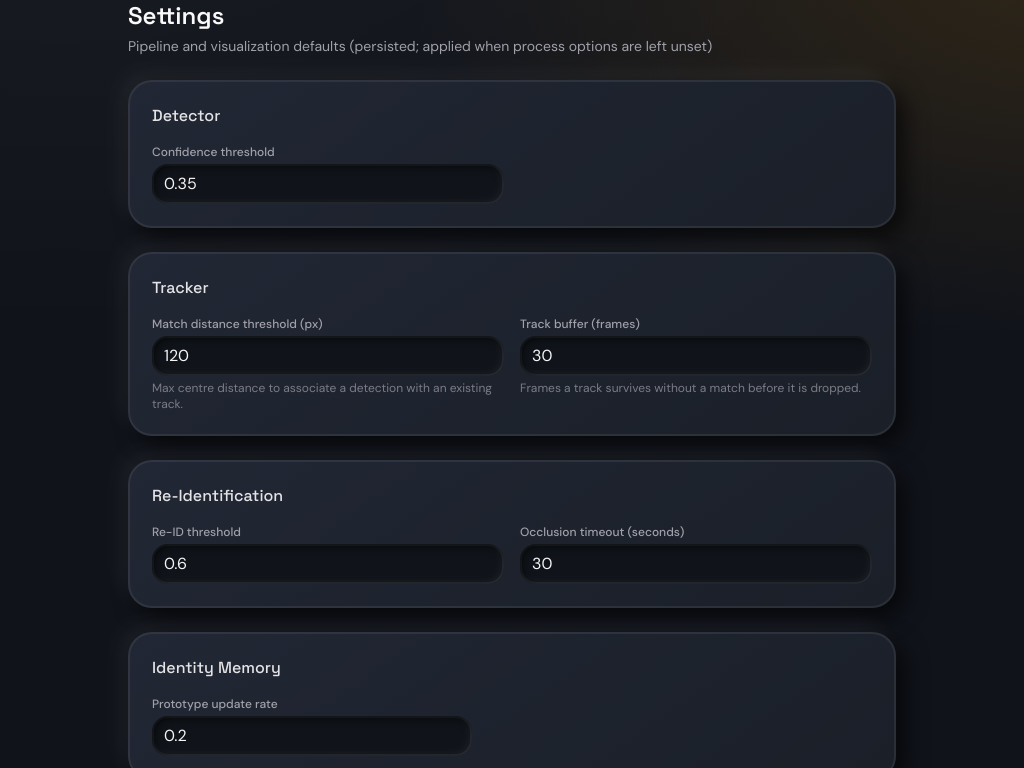
Test: SettingsPage › submits the edited values to the API
The width and height of the screenshot is (1024, 768).
Replace the text in the number field labelled "Re-ID threshold" with "0.5" at (328, 564), box [152,544,504,584]
(page scrolled)
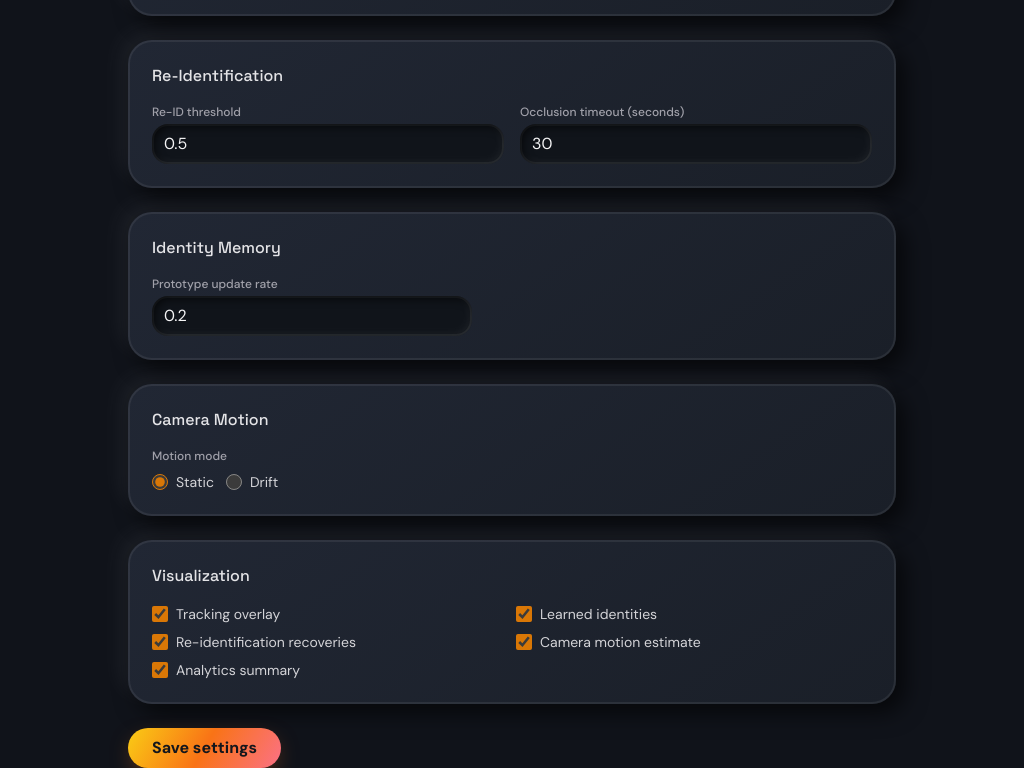
Click the button "Save settings" at (205, 748), box [128,728,281,767]
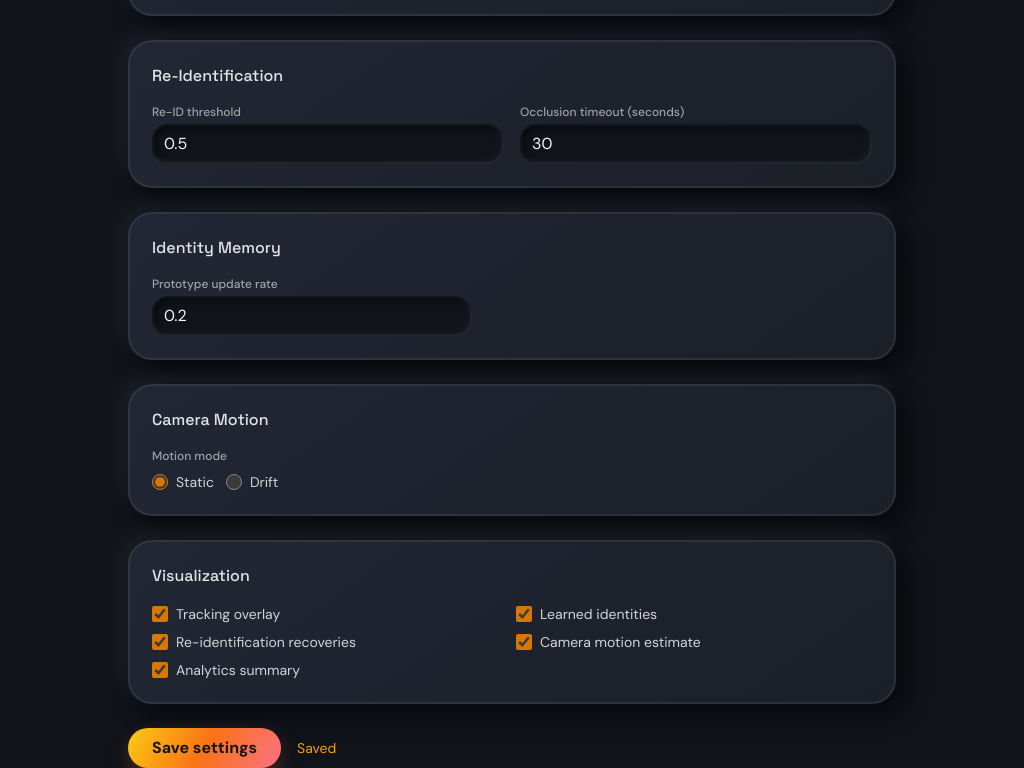
Expected: the text "Saved" is shown, [297,738,336,758]
